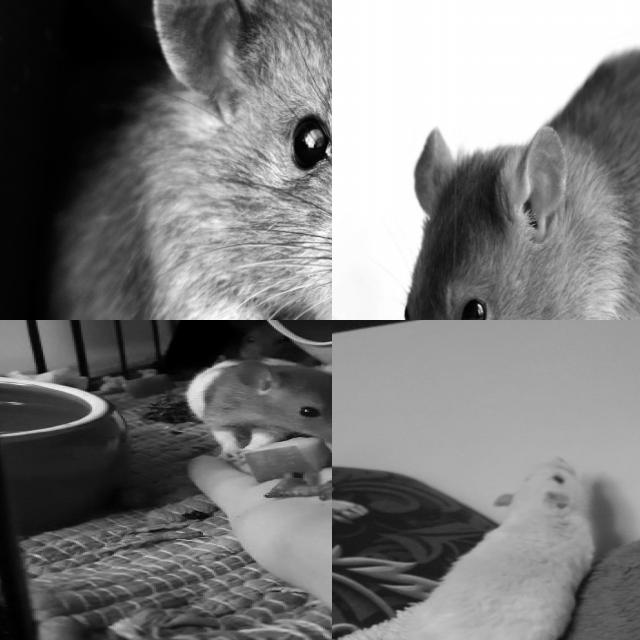rat: (70, 0, 332, 320), (363, 28, 640, 320), (402, 458, 600, 640), (186, 349, 332, 465)
